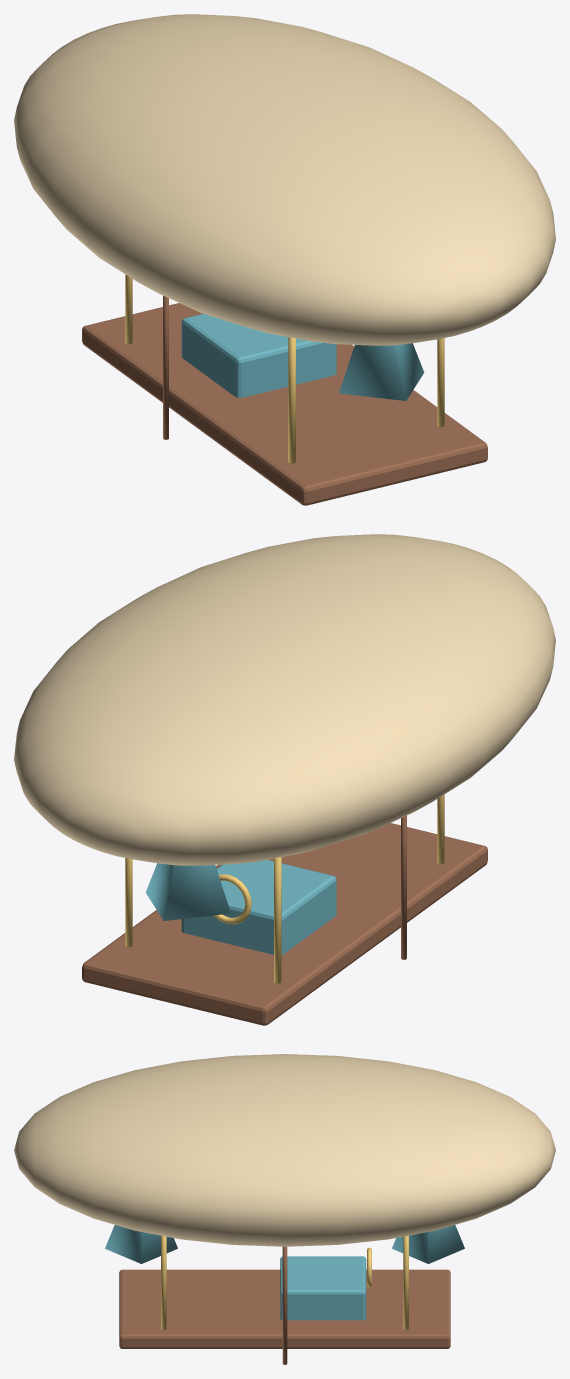
File: airship_landmark.glb
3 renders of one model, top to bottom at view 1: azimuth 30°, elevation 25°; view 2: azimuth 150°, elevation 25°; view 3: azimuth 270°, elevation 25°, orthographic. The views are drawn at different scales.
Visible parts, largest first — view 1: Airship_Balloon, Airship_Deck, Airship_Bridge, Airship_Fin.001, Airship_Mast.001, Airship_Rope, Airship_Mast.003; view 2: Airship_Balloon, Airship_Deck, Airship_Bridge, Airship_Fin, Airship_Mast, Airship_Rope, Airship_Mast.002, Airship_Emblem; view 3: Airship_Balloon, Airship_Deck, Airship_Bridge, Airship_Fin, Airship_Fin.001, Airship_Rope.001, Airship_Mast.002, Airship_Mast.003.
Part boxes in pixels (box(x1,y1,x2,y2)): Airship_Balloon: box(14, 14, 555, 345); Airship_Deck: box(82, 303, 487, 505); Airship_Bridge: box(181, 313, 336, 398); Airship_Fin.001: box(339, 343, 424, 400); Airship_Mast.001: box(288, 337, 295, 463); Airship_Rope: box(163, 295, 168, 439); Airship_Mast.003: box(437, 338, 444, 427); Airship_Balloon: box(14, 534, 555, 865); Airship_Deck: box(82, 823, 487, 1025); Airship_Bridge: box(181, 859, 336, 954); Airship_Fin: box(145, 863, 230, 920); Airship_Mast: box(274, 857, 281, 983); Airship_Rope: box(401, 815, 406, 959); Airship_Mast.002: box(125, 858, 132, 947); Airship_Emblem: box(213, 874, 251, 924); Airship_Balloon: box(14, 1054, 555, 1246); Airship_Deck: box(119, 1269, 450, 1348); Airship_Bridge: box(280, 1256, 366, 1320); Airship_Fin: box(392, 1225, 464, 1263); Airship_Fin.001: box(105, 1225, 177, 1263); Airship_Rope.001: box(282, 1246, 287, 1364); Airship_Mast.002: box(403, 1235, 408, 1330); Airship_Mast.003: box(161, 1235, 166, 1330).
Bounding box in the file's own units: 10.8 × 8.1 × 17.
